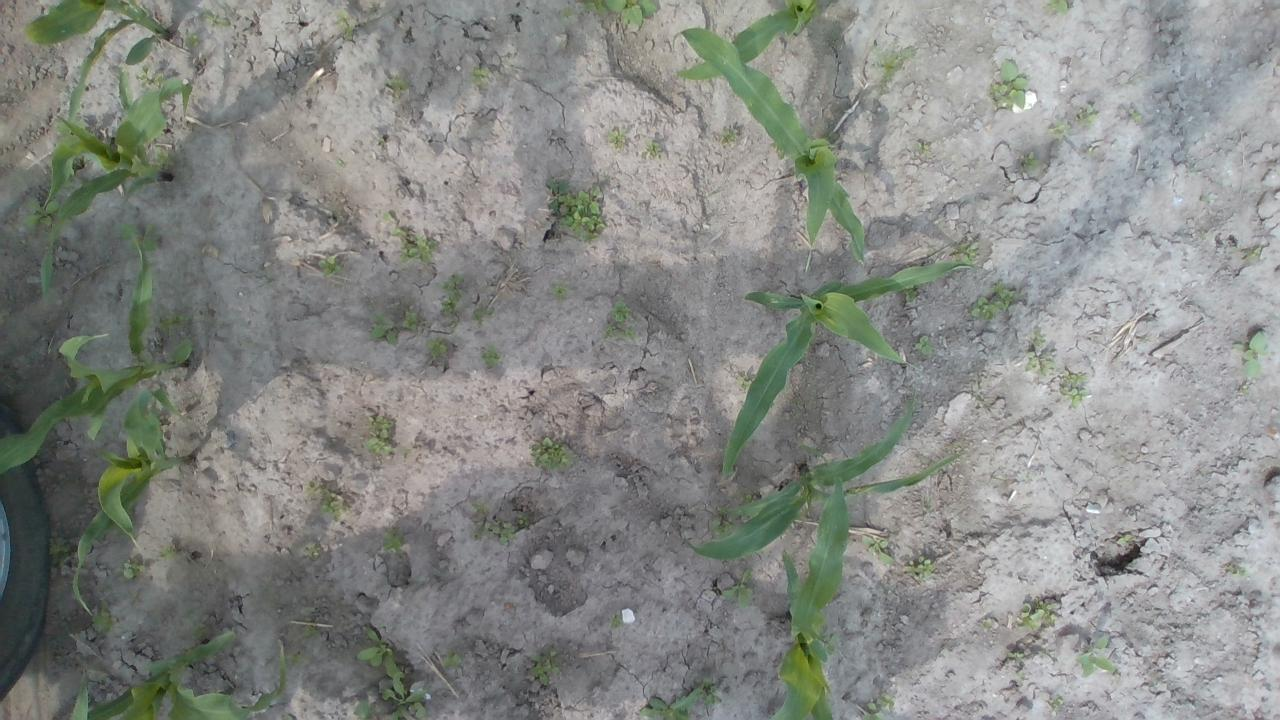Maize: (718, 256, 972, 472), (3, 230, 196, 474), (675, 21, 868, 260), (682, 394, 962, 558), (39, 65, 191, 308), (69, 422, 195, 620), (72, 630, 288, 720), (17, 0, 176, 118), (774, 469, 836, 720), (675, 2, 819, 81)
Weeds: (543, 181, 604, 238), (352, 625, 405, 678), (872, 43, 916, 100), (376, 673, 428, 720), (469, 500, 519, 547), (988, 57, 1028, 112), (1076, 634, 1118, 678), (1047, 105, 1099, 138), (972, 282, 1018, 318), (372, 303, 416, 340), (1233, 331, 1266, 379), (603, 0, 661, 25), (396, 223, 434, 259), (528, 436, 570, 468), (1016, 598, 1058, 630), (603, 298, 635, 338), (1060, 368, 1090, 410), (116, 222, 158, 252), (724, 568, 756, 607), (24, 196, 62, 228), (530, 644, 558, 686), (367, 415, 393, 460), (443, 276, 466, 323), (643, 696, 692, 718), (318, 488, 352, 518), (694, 684, 722, 718), (352, 686, 378, 720), (902, 554, 933, 582), (864, 535, 896, 562), (158, 310, 188, 337), (94, 600, 116, 635), (135, 64, 166, 88), (1026, 350, 1054, 376), (861, 694, 892, 716), (951, 238, 980, 260), (202, 11, 234, 30), (382, 528, 407, 552), (157, 542, 184, 562), (422, 341, 443, 365), (710, 513, 734, 534), (120, 557, 145, 577), (318, 257, 344, 276), (606, 124, 626, 148), (717, 126, 743, 144), (913, 336, 934, 357), (50, 536, 72, 556), (478, 346, 499, 364), (1032, 325, 1050, 345), (1046, 696, 1066, 714), (442, 650, 462, 668), (192, 628, 214, 644), (1043, 0, 1071, 11), (644, 138, 659, 158), (1016, 153, 1036, 168), (338, 15, 351, 38), (306, 542, 324, 557), (474, 66, 488, 85), (1222, 562, 1242, 575), (1080, 142, 1098, 156), (1242, 246, 1260, 260), (391, 78, 408, 92), (1009, 651, 1028, 663), (550, 284, 566, 298), (904, 290, 920, 304), (612, 612, 626, 628), (578, 0, 602, 9), (1116, 534, 1134, 546), (302, 620, 318, 632), (1128, 110, 1143, 122), (517, 514, 530, 526), (188, 32, 202, 43), (915, 140, 929, 150), (306, 479, 318, 490), (1239, 382, 1252, 390), (1197, 230, 1206, 240)
